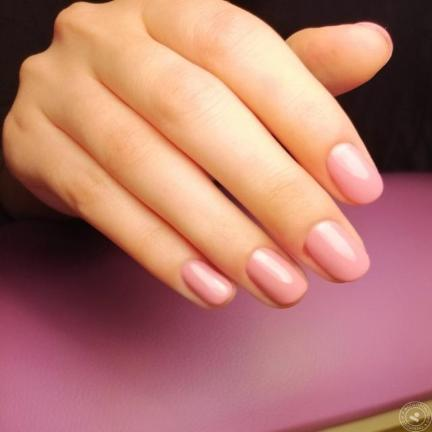Nail: (306, 221, 371, 282), (246, 248, 308, 305), (327, 143, 384, 204), (182, 260, 232, 304)
